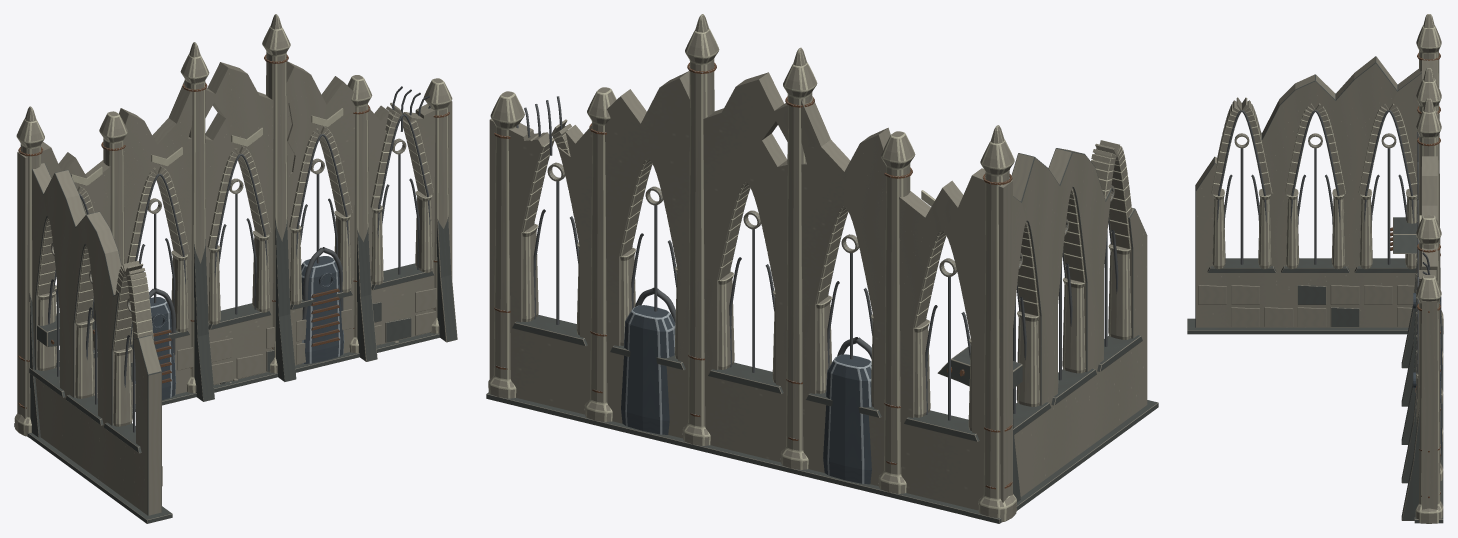
File: ruined_basilica.glb
The picture shows the model from 3 angles, left to right: view 1: azimuth 30°, elevation 25°; view 2: azimuth 150°, elevation 25°; view 3: azimuth 270°, elevation 25°; orthographic projection. The views are drawn at different scales.
Parts seen in each view (by area): view 1: GT_ruined_basilica; view 2: GT_ruined_basilica; view 3: GT_ruined_basilica.
Part boxes in pixels (x1=…): GT_ruined_basilica: x1=14, y1=14, x2=457, y2=523; GT_ruined_basilica: x1=486, y1=14, x2=1158, y2=523; GT_ruined_basilica: x1=1187, y1=14, x2=1443, y2=523.
Bounding box in the file's own units: 13.19 × 10.35 × 7.
Materials: 1 (1 with a texture image).
